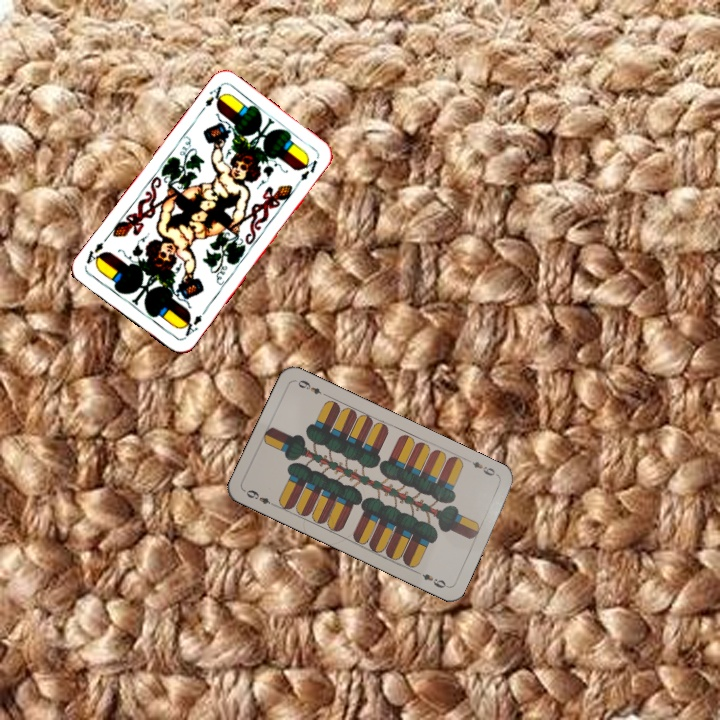E9: (464, 456, 502, 479), (242, 486, 279, 509)
EA: (195, 82, 228, 116), (177, 310, 205, 341)
